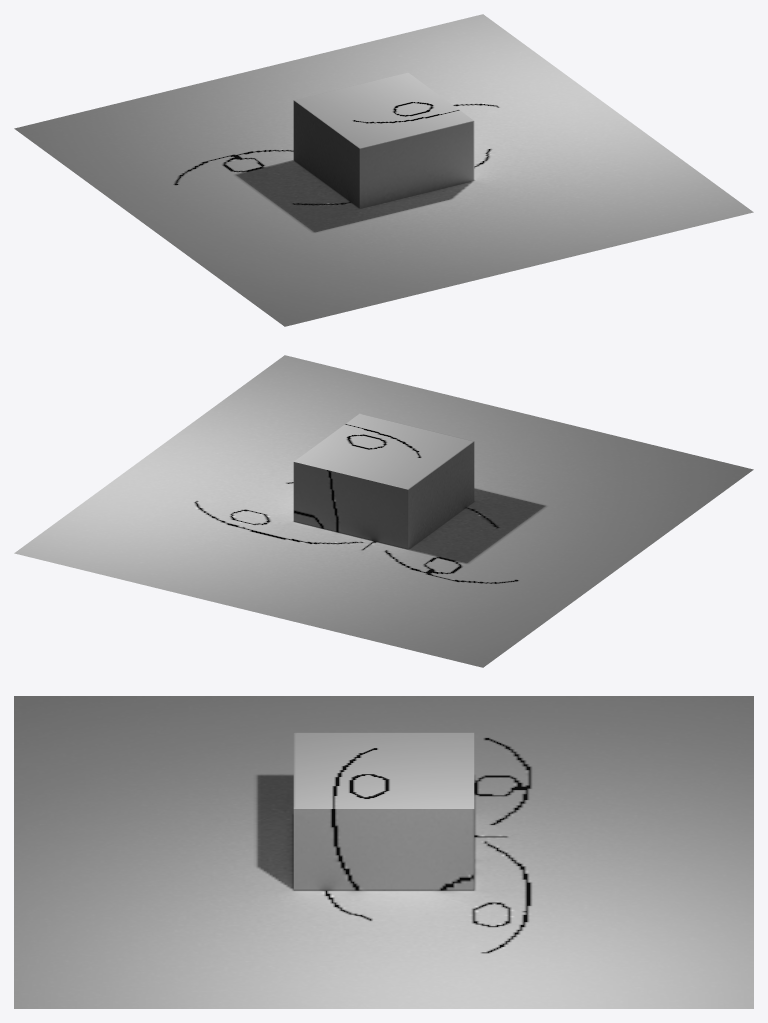
Rendered from simple.gltf.
3 views of the same model, one above another, from view 1: azimuth 30°, elevation 25°; view 2: azimuth 150°, elevation 25°; view 3: azimuth 270°, elevation 25° (orthographic). The views are drawn at different scales.
Parts seen in each view (by area): view 1: Plane, Cube; view 2: Plane, Cube; view 3: Plane, Cube.
Boxes of the visible parts, box(x1,y1,x2,y2) form: Plane: box(14, 14, 753, 326); Cube: box(293, 72, 474, 208); Plane: box(14, 355, 753, 667); Cube: box(293, 413, 474, 549); Plane: box(14, 696, 753, 1008); Cube: box(293, 732, 474, 890).
Bounding box in the file's own units: 8.2 × 2 × 8.2.
2 materials, 2 textured.
